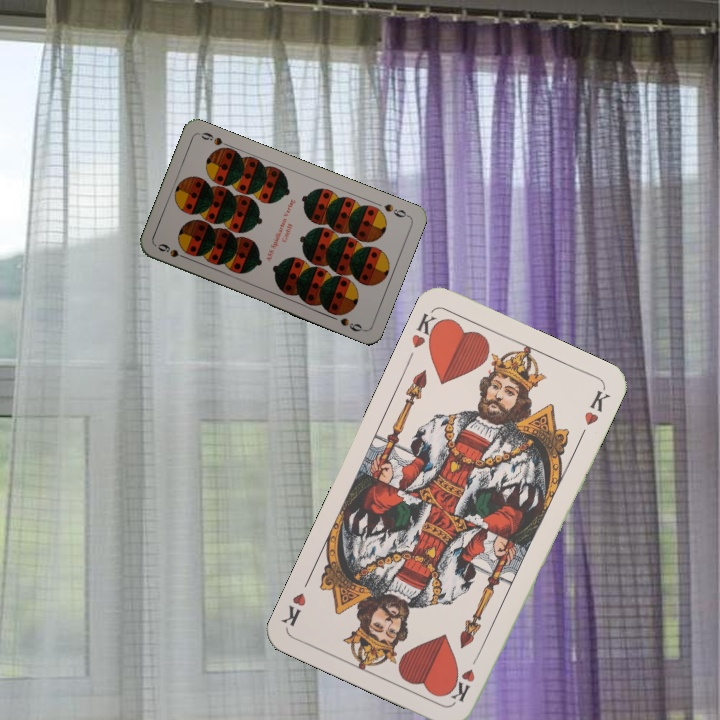HK: (447, 649, 483, 705), (407, 308, 445, 353)
S9: (154, 239, 192, 262), (380, 200, 411, 220)
